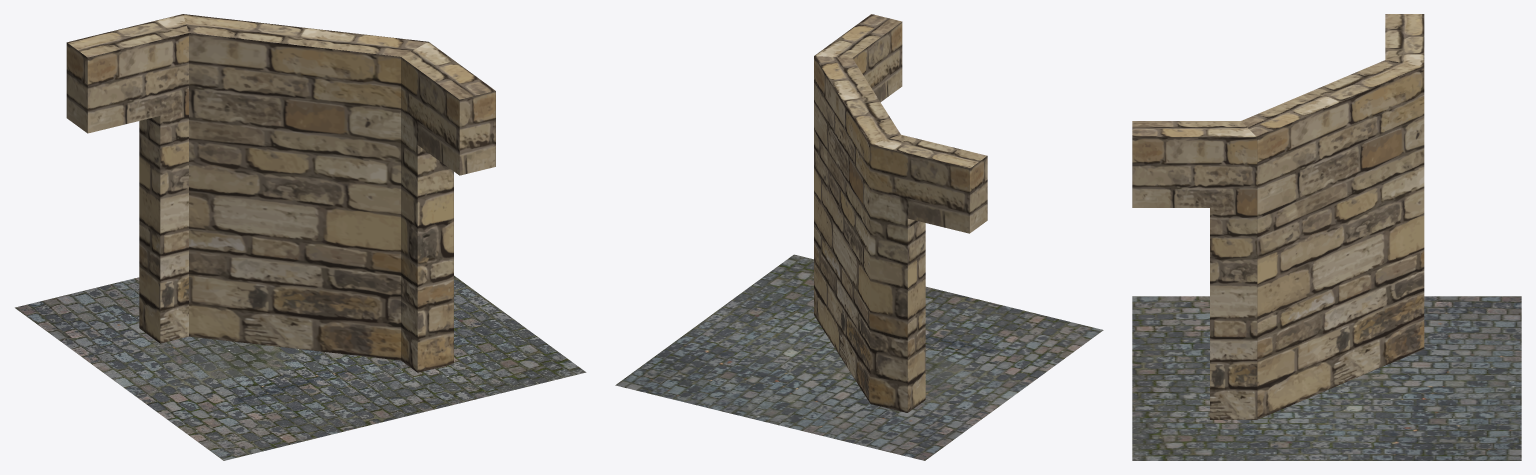
File: 1-0-NESoul.fbx
3 renders of one model, left to right at view 1: azimuth 30°, elevation 25°; view 2: azimuth 150°, elevation 25°; view 3: azimuth 270°, elevation 25°, orthographic. The views are drawn at different scales.
Parts seen in each view (by area): view 1: Cube_2, Plane; view 2: Plane, Cube_2; view 3: Cube_2, Plane.
Part boxes in pixels (x1,y1,x2,y2): Cube_2: (66,14,495,372); Plane: (15,275,586,460); Plane: (615,254,1103,460); Cube_2: (814,14,987,412); Cube_2: (1132,14,1424,419); Plane: (1132,296,1521,460).
Bounding box in the file's own units: 10 × 8 × 10.
Materials: 2 (2 with a texture image).
